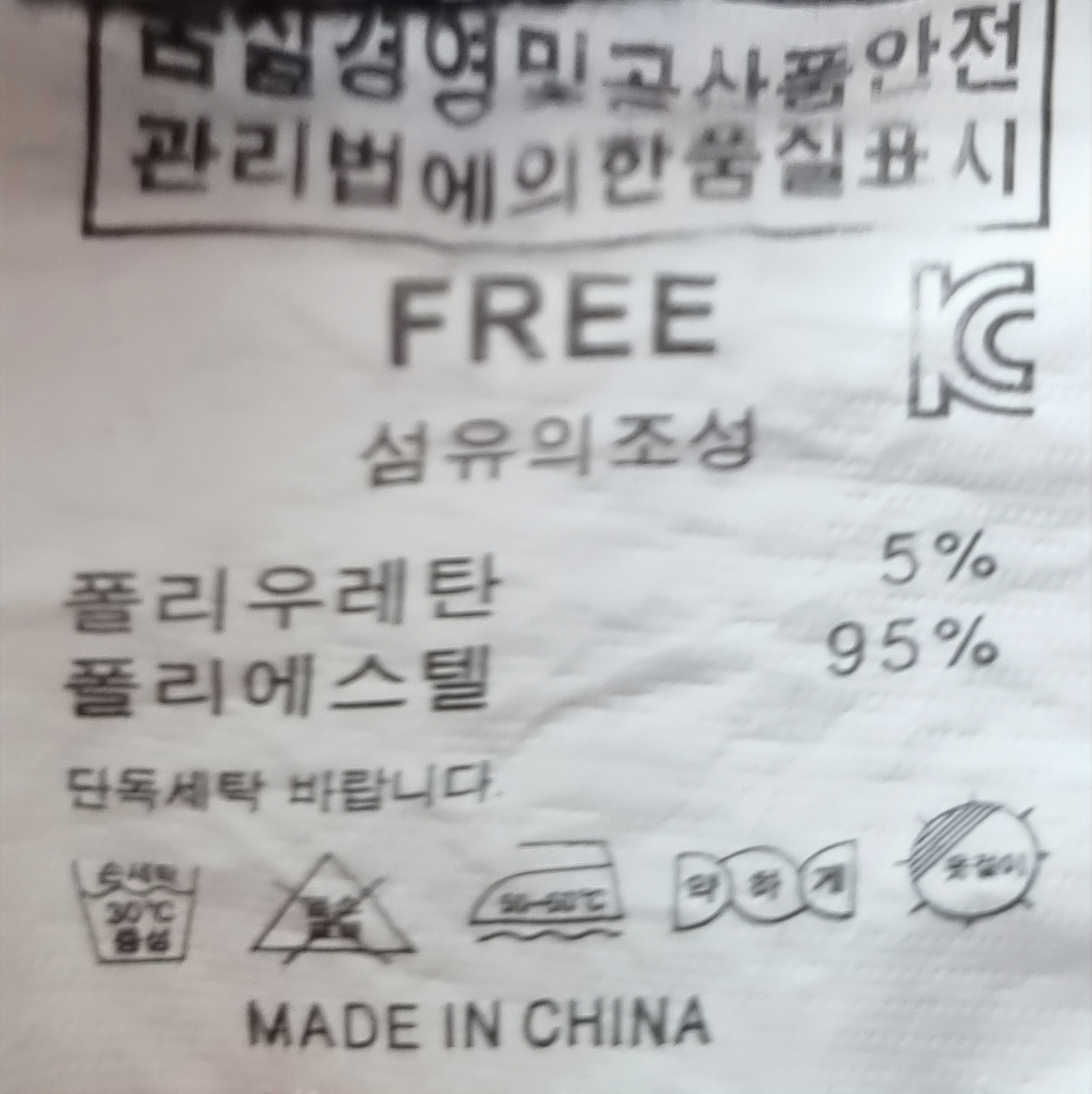KR_gentle_wring: (660, 818, 873, 953)
KR_hand_wash_30_neutral: (63, 833, 217, 977)
KR_hang_dry_in_shade: (890, 794, 1057, 941)
KR_no_chlorine_bleach: (248, 825, 423, 978)
